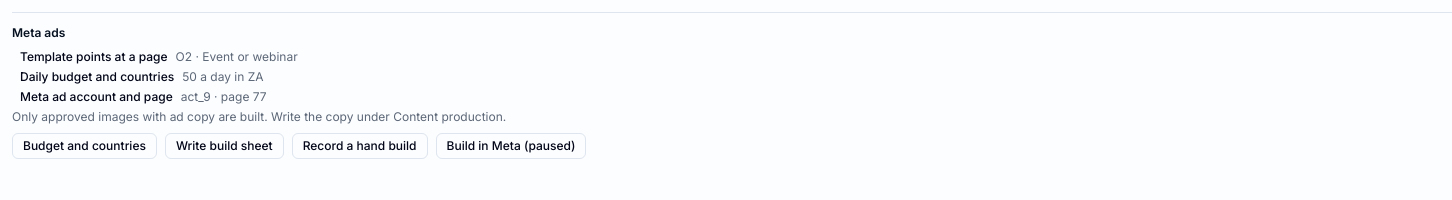
MetaBuildSection › queues the manual build sheet without touching Meta
This screenshot has width=1452, height=200.
Click the button "Write build sheet" at (224, 146), box [165,133,284,159]
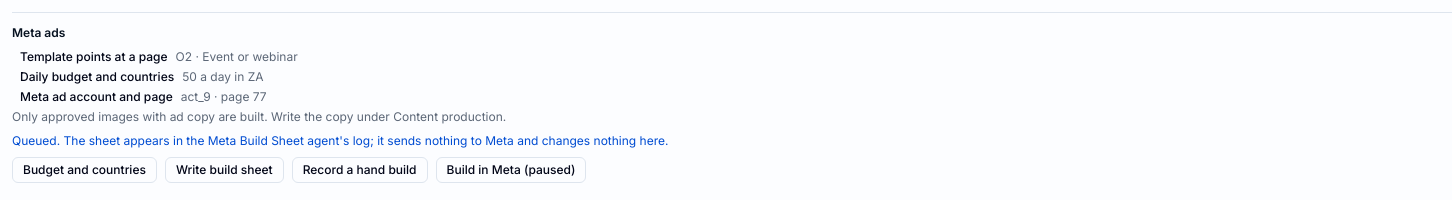
expect the message shows "sends nothing to Meta": met, box [12,133,668,148]
